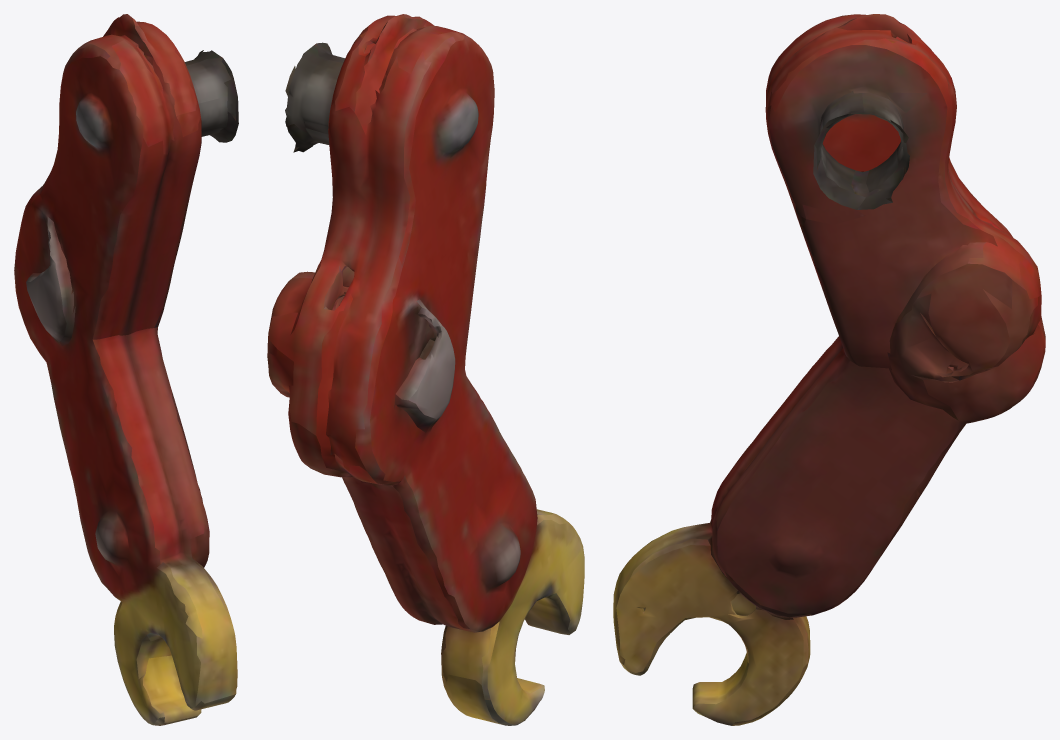
3 renders of one model, left to right at view 1: azimuth 30°, elevation 25°; view 2: azimuth 150°, elevation 25°; view 3: azimuth 270°, elevation 25°, orthographic. The views are drawn at different scales.
Visible parts, largest first — view 1: world; view 2: world; view 3: world.
Part boxes in pixels (x1,y1,x2,y2): world: (14,14,238,725); world: (267,14,584,725); world: (613,14,1045,725).
Bounding box in the file's own units: 0.0217 × 0.0916 × 0.0499.
1 material, 1 textured.
